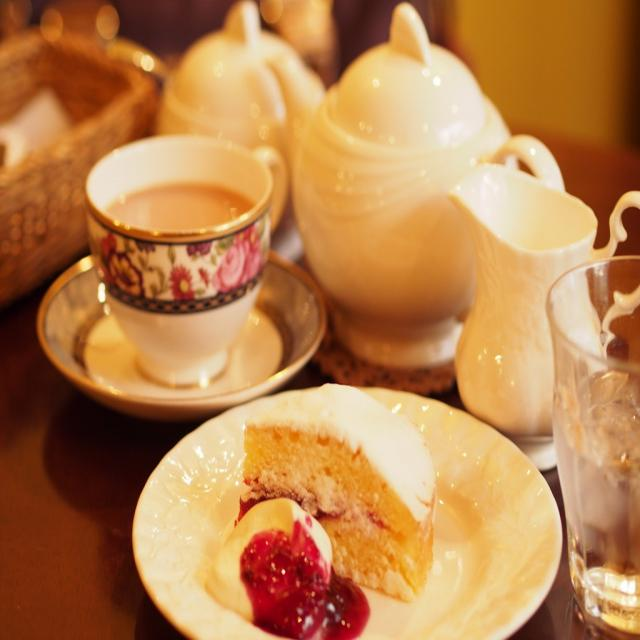Tea: (103, 180, 256, 227)
